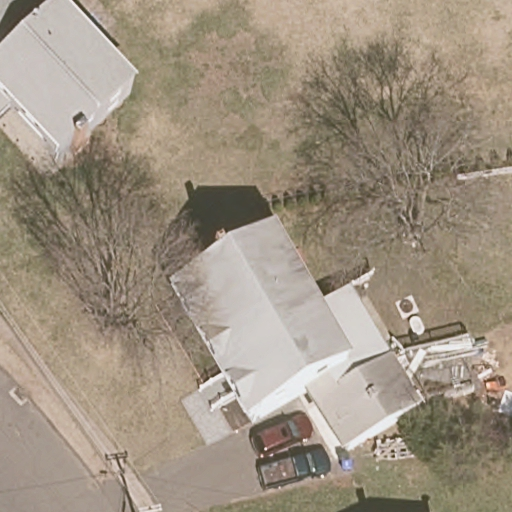DT: (117, 480, 143, 512)
